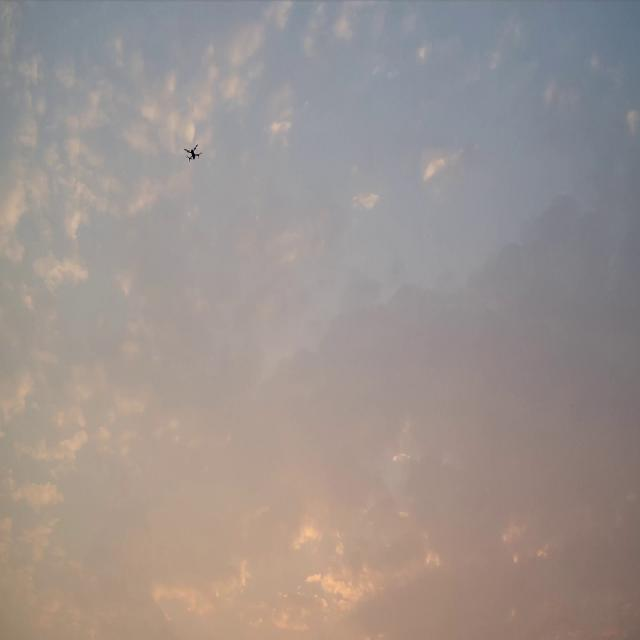UAV: (184, 144, 202, 162)
